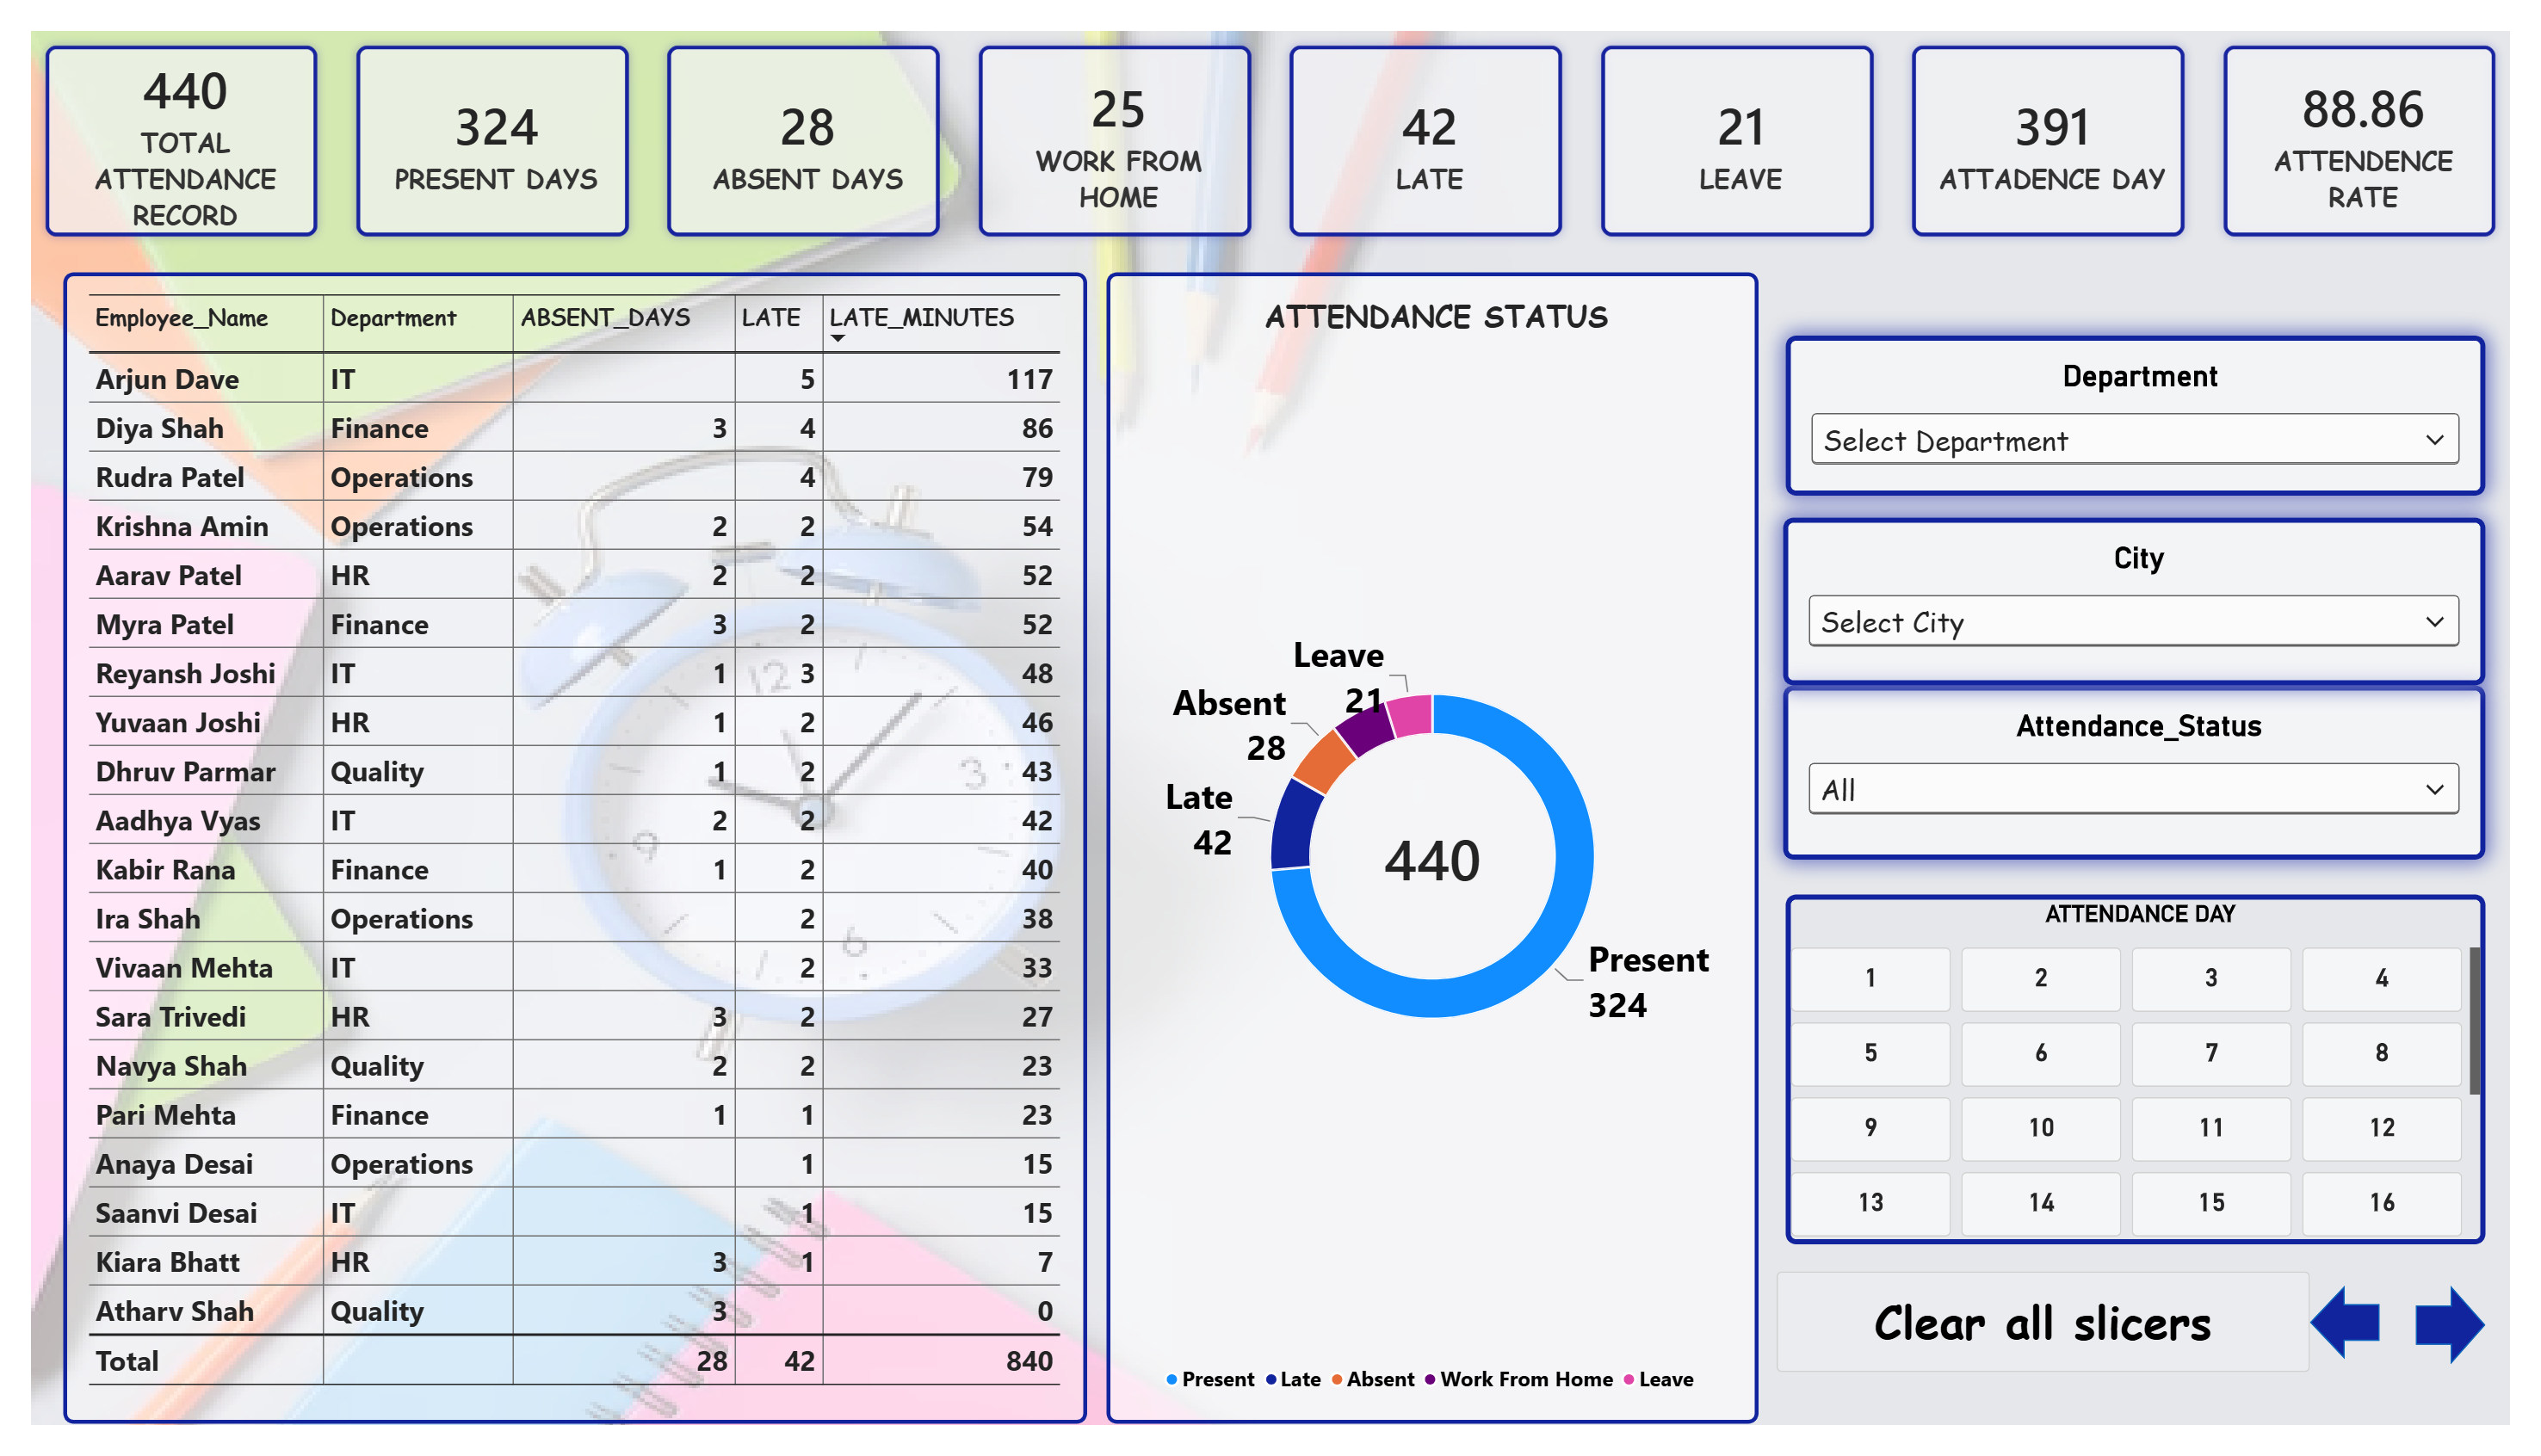

The page's visual inventory and layout, read from the dashboard file:
{"tool":"powerbi","page":{"name":"Page 2","canvas":[1920,1080],"ordinal":1},"visuals":[{"type":"cardVisual","fields":{"Data":["_MEASURE.TOTAL_ATTADENCE_RECORD","_MEASURE.PRESENT_DAYS","_MEASURE.ABSENT_DAYS","_MEASURE.WORK_FROM_HOME","_MEASURE.COME_LATE","_MEASURE.LEAVE","_MEASURE.ATTADENCE_DAY","_MEASURE.ATTENDENCE_RATE"]},"box":[0,0,1920.4,170.4],"z":0},{"type":"donutChart","title":"ATTENDANCE STATUS","fields":{"Category":["Attendance_Log.Attendance_Status"],"Y":["_MEASURE.TOTAL_ATTENDANCE_RECORD"]},"box":[833,187.2,504.8,891.8],"z":1000},{"type":"tableEx","fields":{"Values":["Attendance_Log.Employee_Name","Attendance_Log.Department","_MEASURE.ABSENT_DAYS","_MEASURE.LATE","_MEASURE.LATE_MINUTES"]},"box":[25.2,187.2,793,891.8],"z":2000},{"type":"actionButton","box":[1352.5,961.3,412.3,77.8],"z":7000},{"type":"shape","box":[1846.8,971.8,54.7,61],"z":8000},{"type":"shape","box":[1764.8,971.8,54.7,56.8],"z":9000},{"type":"listSlicer","fields":{"Values":["Attendance_Log.Department"]},"box":[1358.8,235.6,542.7,124.1],"z":9001},{"type":"listSlicer","fields":{"Values":["Attendance_Log.Attendance_Status"]},"box":[1356.7,506.9,544.8,134.6],"z":9002},{"type":"listSlicer","fields":{"Values":["Attendance_Log.City"]},"box":[1356.7,376.5,544.8,130.4],"z":9003},{"type":"advancedSlicerVisual","title":"ATTENDANCE DAY","fields":{"Values":["Attendance_Log.Attendance_Date.Variation.Date Hierarchy.Day"]},"box":[1358.8,668.9,542.7,271.3],"z":9004}]}

Visuals, with their boxes in screenshot pixels (x1, y1, x2, y2), scaled from the page's 1920x1080 canvas onto the 2541x1456 screenshot:
cardVisual - _MEASURE.TOTAL_ATTADENCE_RECORD x _MEASURE.PRESENT_DAYS: (x1=0, y1=0, x2=2540, y2=230)
"ATTENDANCE STATUS" donutChart: (x1=1103, y1=252, x2=1771, y2=1454)
tableEx - Attendance_Log.Employee_Name x Attendance_Log.Department: (x1=34, y1=252, x2=1083, y2=1454)
actionButton: (x1=1790, y1=1296, x2=2335, y2=1401)
shape: (x1=2444, y1=1310, x2=2517, y2=1392)
shape: (x1=2335, y1=1310, x2=2408, y2=1386)
listSlicer - Attendance_Log.Department: (x1=1798, y1=318, x2=2517, y2=485)
listSlicer - Attendance_Log.Attendance_Status: (x1=1796, y1=683, x2=2517, y2=865)
listSlicer - Attendance_Log.City: (x1=1796, y1=508, x2=2517, y2=683)
"ATTENDANCE DAY" advancedSlicerVisual: (x1=1798, y1=902, x2=2517, y2=1268)
